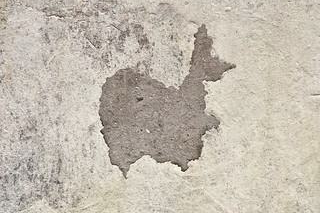Spalling: (98, 23, 237, 180)
